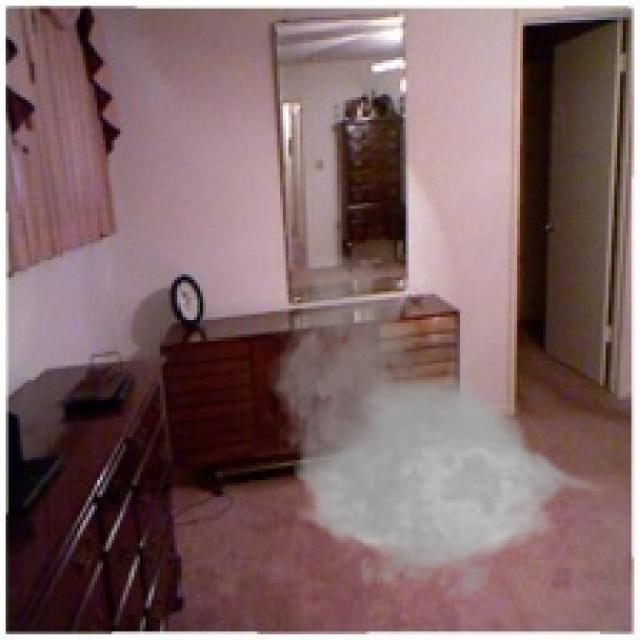smoke: (257, 248, 612, 612)
